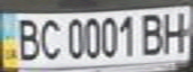0: (81, 15, 103, 60), (63, 15, 84, 61), (100, 14, 121, 58)
1: (118, 12, 139, 59)
B: (9, 15, 42, 62), (136, 10, 169, 56)
C: (36, 16, 63, 61)
H: (157, 7, 193, 54)
